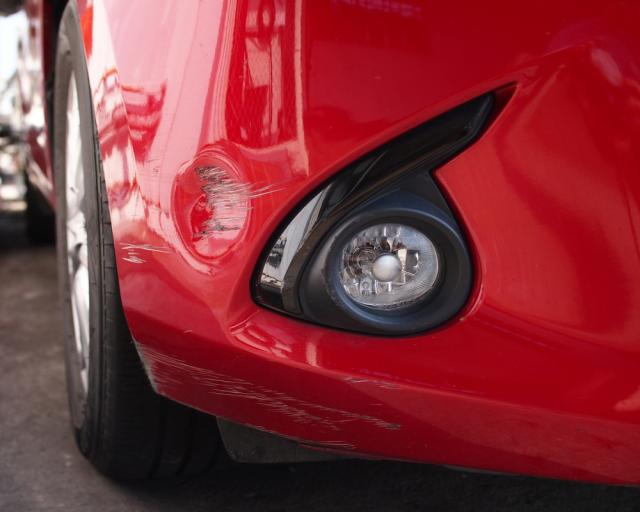dent: (173, 153, 253, 265)
scratch: (131, 343, 410, 455), (112, 151, 186, 267)
